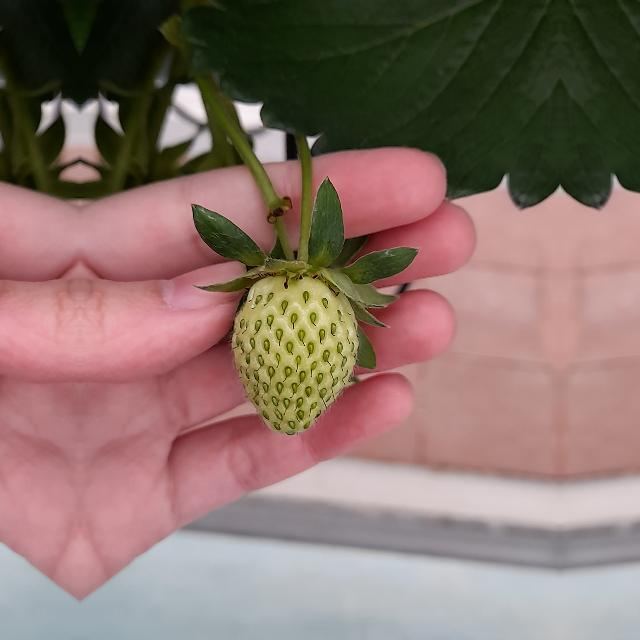Health_25: (232, 276, 358, 434)
